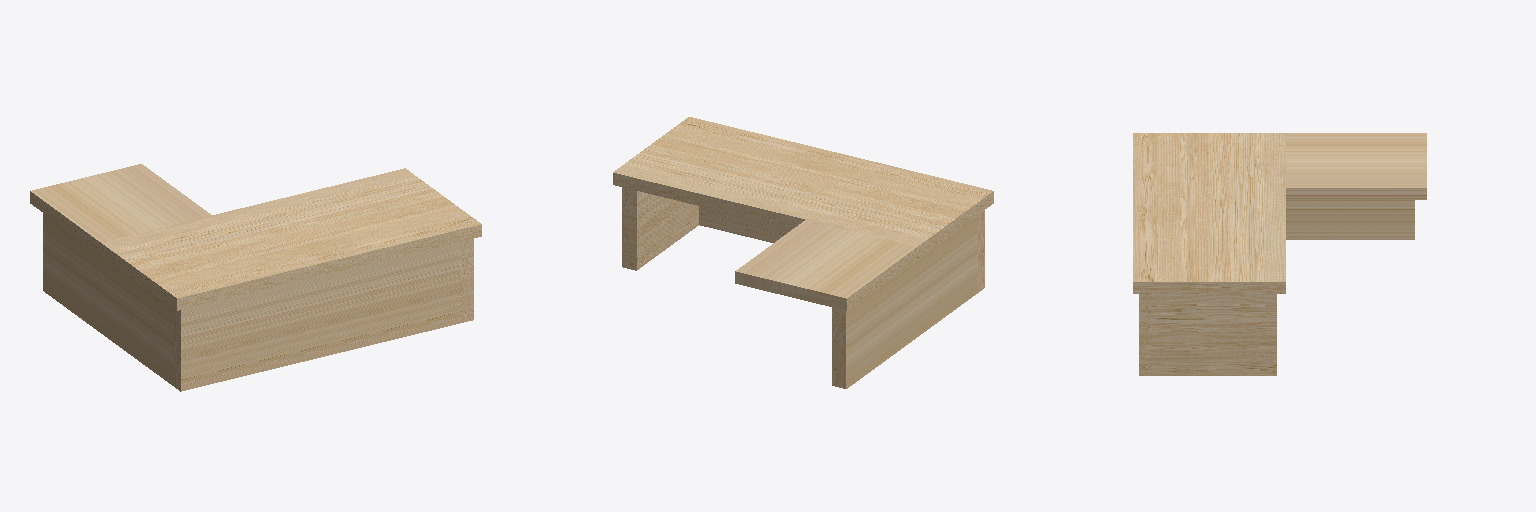
3 views of the same model, side by side, from view 1: azimuth 30°, elevation 25°; view 2: azimuth 150°, elevation 25°; view 3: azimuth 270°, elevation 25° (orthographic).
Visible parts, largest first — view 1: Box001, Box002; view 2: Box001, Box002; view 3: Box001, Box002.
Part boxes in pixels (left/top/right/bottom): Box001: left=30, top=164, right=481, bottom=310; Box002: left=43, top=213, right=473, bottom=391; Box001: left=613, top=117, right=993, bottom=310; Box002: left=622, top=187, right=984, bottom=388; Box001: left=1133, top=133, right=1426, bottom=293; Box002: left=1139, top=200, right=1414, bottom=375.
Bounding box in the file's own units: 117 × 35.41 × 97.48.
Materials: 1 (1 with a texture image).